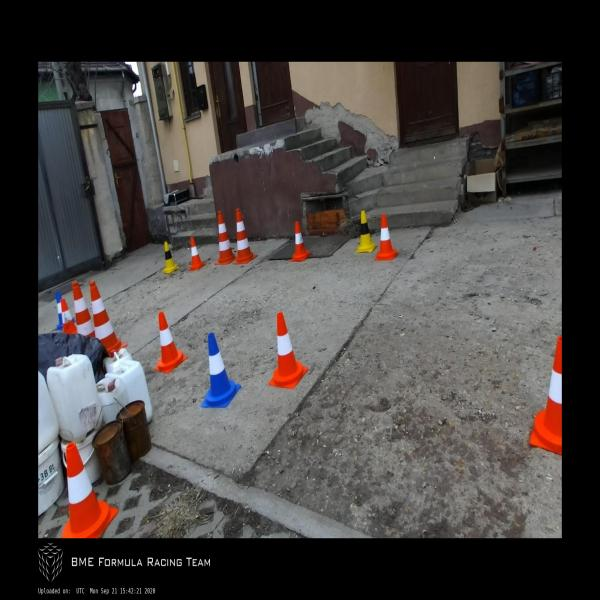blue_cone: (201, 332, 241, 408), (56, 292, 76, 330)
large_orange_cone: (89, 280, 128, 357), (232, 208, 258, 264), (214, 210, 238, 265), (72, 281, 95, 337)
orange_cone: (61, 442, 119, 538), (529, 336, 562, 455), (268, 312, 308, 389), (154, 312, 188, 373), (374, 214, 399, 260), (291, 221, 311, 261), (188, 236, 206, 270), (61, 298, 77, 334)
yellow_cone: (356, 210, 377, 253), (162, 241, 180, 273)
